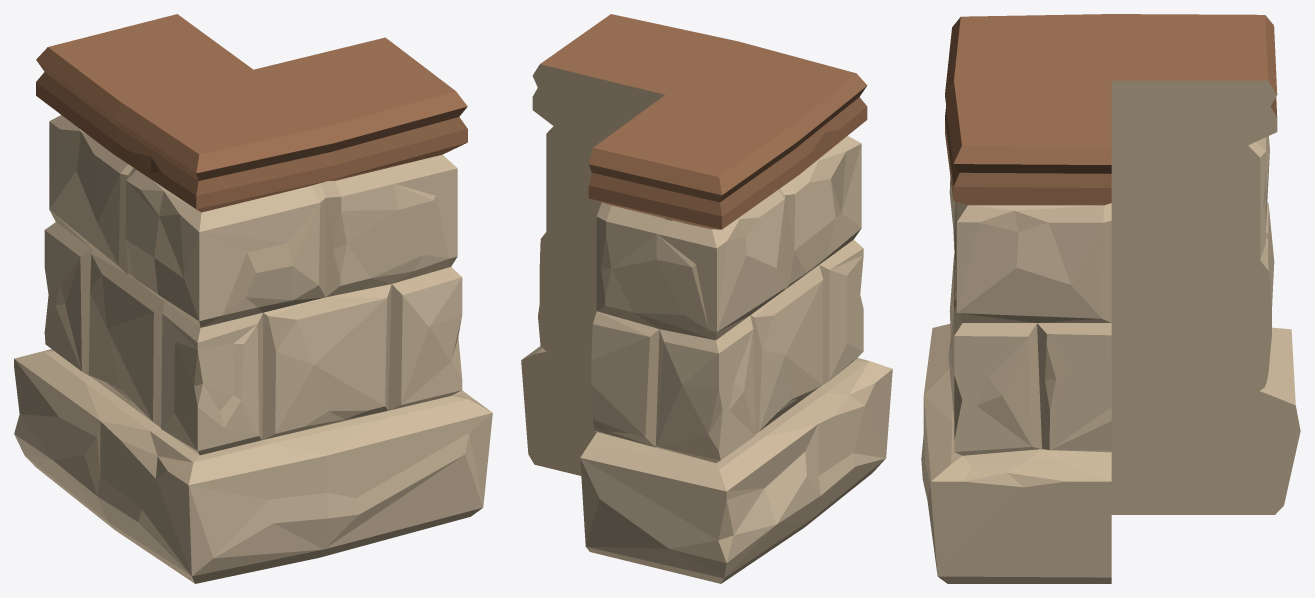
File: elven_SM_Bld_Wall_Trim_End_C_02.gltf
3 renders of one model, left to right at view 1: azimuth 30°, elevation 25°; view 2: azimuth 150°, elevation 25°; view 3: azimuth 270°, elevation 25°, orthographic. The views are drawn at different scales.
Visible parts, largest first — view 1: SM_Bld_Wall_Trim_End_C_02; view 2: SM_Bld_Wall_Trim_End_C_02; view 3: SM_Bld_Wall_Trim_End_C_02.
Boxes of the visible parts, box(x1,y1,x2,y2) form: SM_Bld_Wall_Trim_End_C_02: box(14, 14, 492, 583); SM_Bld_Wall_Trim_End_C_02: box(521, 14, 892, 583); SM_Bld_Wall_Trim_End_C_02: box(921, 14, 1300, 583).
Size of the model in its own units: 0.6883 by 0.8917 by 0.7059.
Materials: 1 (1 with a texture image).
